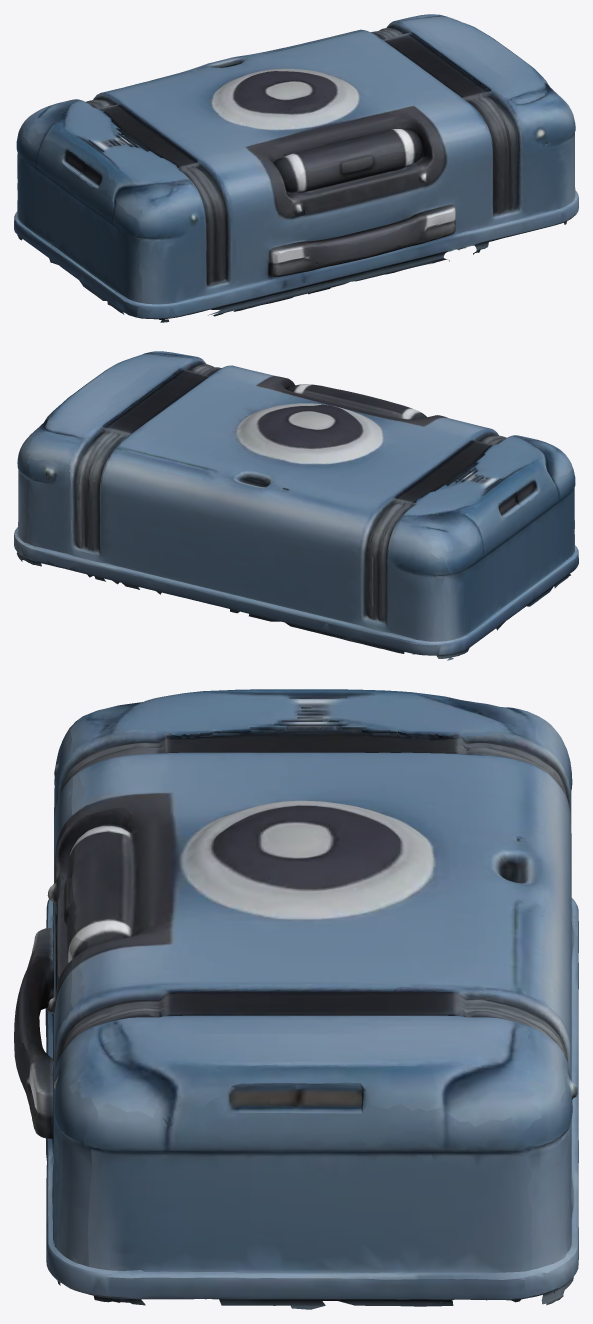
File: top_half.glb
The picture shows the model from 3 angles, top to bottom: view 1: azimuth 30°, elevation 25°; view 2: azimuth 150°, elevation 25°; view 3: azimuth 270°, elevation 25°; orthographic projection. The views are drawn at different scales.
Visible parts, largest first — view 1: world; view 2: world; view 3: world.
Boxes of the visible parts, x1,y1,x2,y2 form: world: [14, 14, 578, 322]; world: [14, 351, 578, 660]; world: [14, 689, 578, 1309].
Bounding box in the file's own units: 0.6455 × 0.2009 × 0.3792.
Materials: 1 (1 with a texture image).
